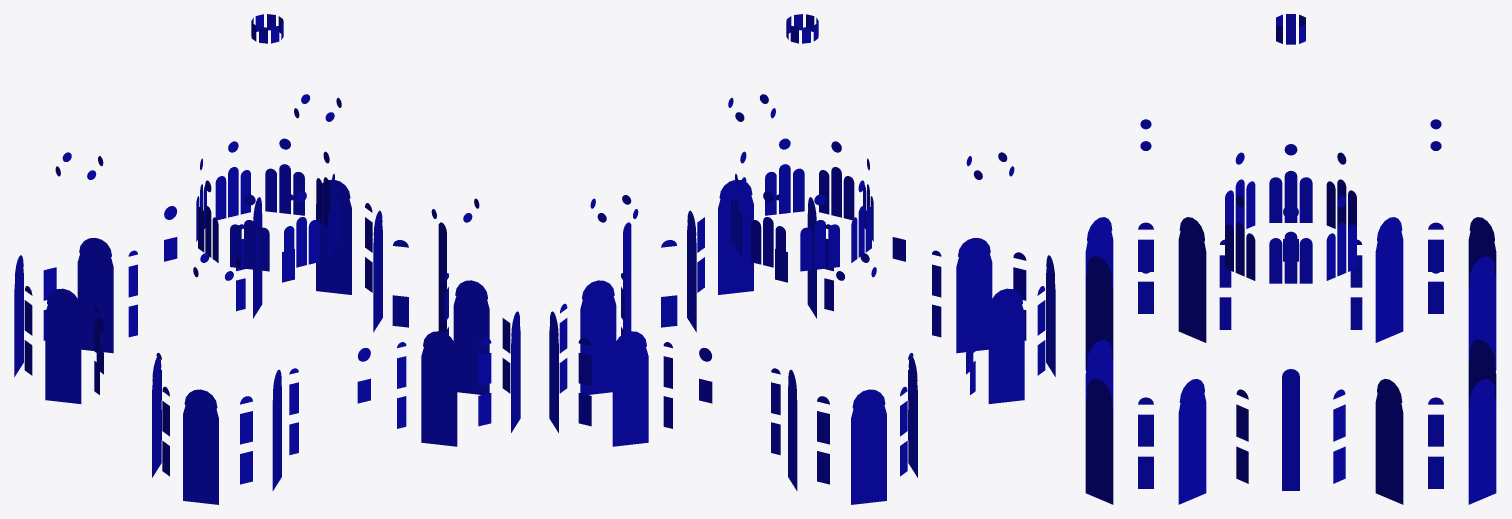
The model's file is cathedralT.obj.
3 views of the same model, side by side, from view 1: azimuth 30°, elevation 25°; view 2: azimuth 150°, elevation 25°; view 3: azimuth 270°, elevation 25° (orthographic). The views are drawn at different scales.
Parts seen in each view (by area): view 1: transparent_Куб.000; view 2: transparent_Куб.000; view 3: transparent_Куб.000.
Boxes of the visible parts, box(x1,y1,x2,y2) form: transparent_Куб.000: box(14, 14, 520, 504); transparent_Куб.000: box(549, 14, 1055, 504); transparent_Куб.000: box(1085, 14, 1496, 504).
Size of the model in its own units: 14.77 by 15.42 by 14.55.
